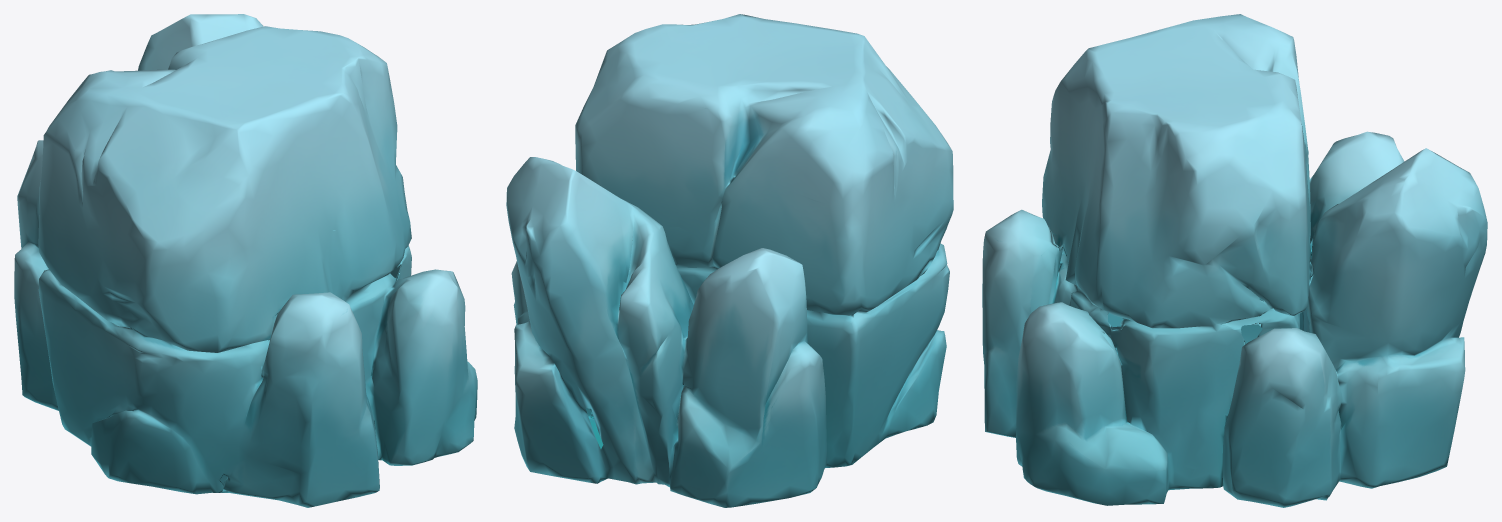
Rendered from led-kristally.glb.
The picture shows the model from 3 angles, left to right: view 1: azimuth 30°, elevation 25°; view 2: azimuth 150°, elevation 25°; view 3: azimuth 270°, elevation 25°; orthographic projection.
Parts seen in each view (by area): view 1: geometry_0; view 2: geometry_0; view 3: geometry_0.
Boxes of the visible parts, x1,y1,x2,y2 form: geometry_0: (14,14,477,507); geometry_0: (506,14,953,507); geometry_0: (982,14,1487,507).
Bounding box in the file's own units: 0.7864 × 0.7608 × 0.9994.
1 material, 1 textured.
